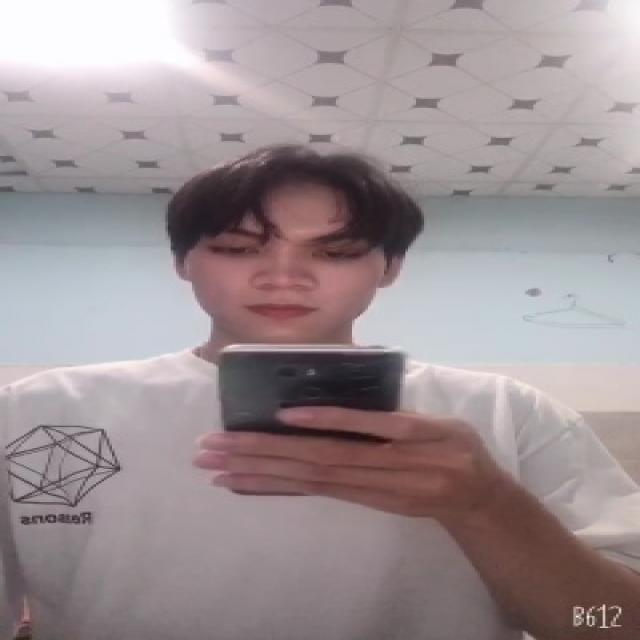Phone: (213, 336, 407, 439)
